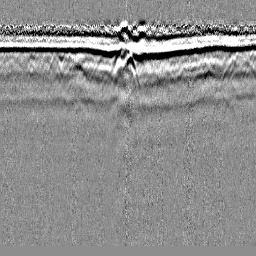cavity: (121, 50, 140, 87)
